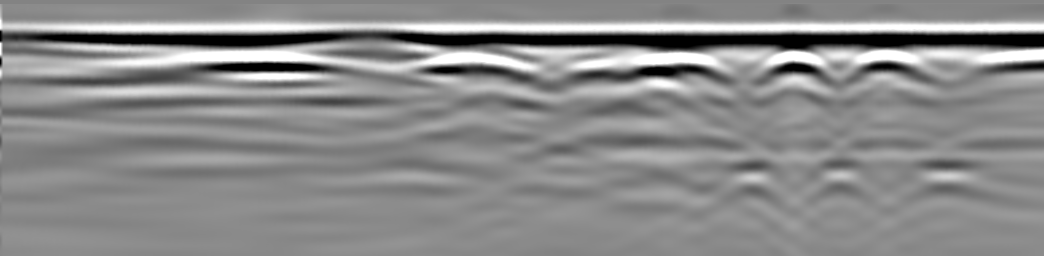pipe: (266, 31, 467, 61)
steel: (569, 55, 730, 79), (419, 55, 537, 79), (843, 51, 939, 80), (751, 53, 835, 82)
